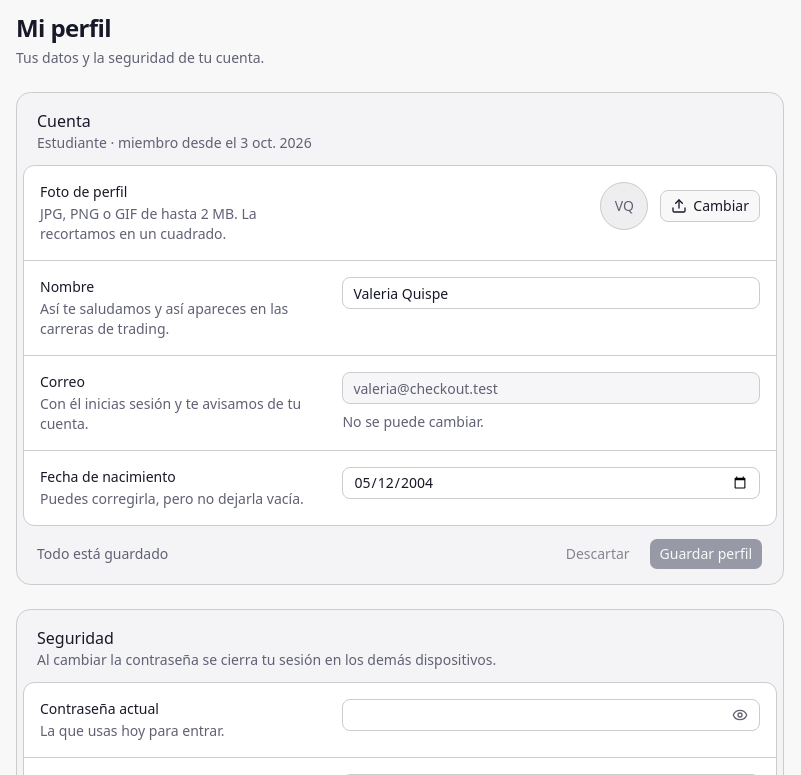
Test: ProfilePage › una fecha de nacimiento guardada no se puede dejar vacia
Step 1. Clear the date field labelled "Fecha de nacimiento" → (551, 483), box [342,467,760,499]
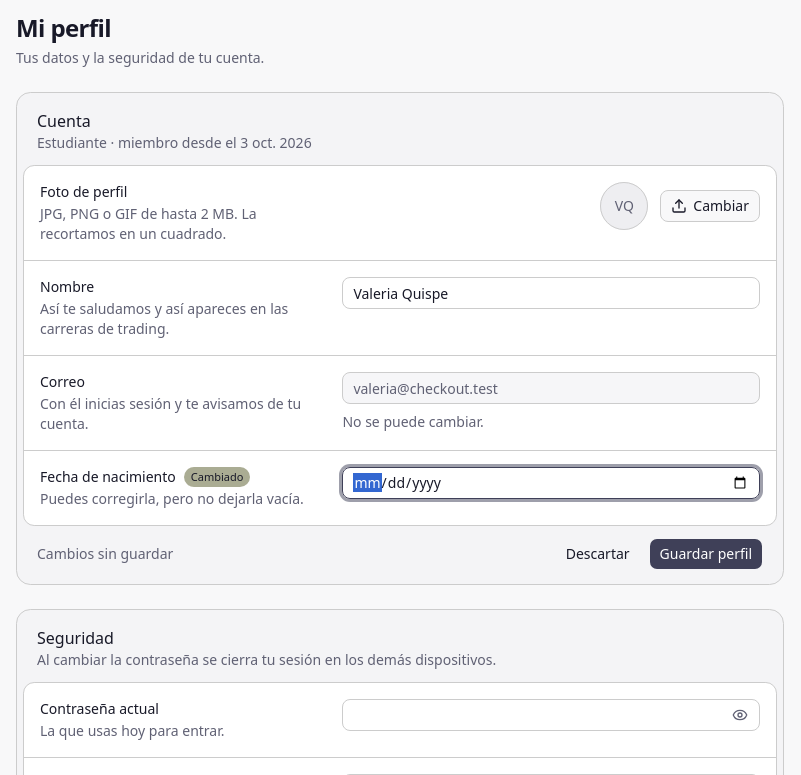
Step 2. Click the button "Guardar perfil" → (706, 554), box [649,538,763,570]
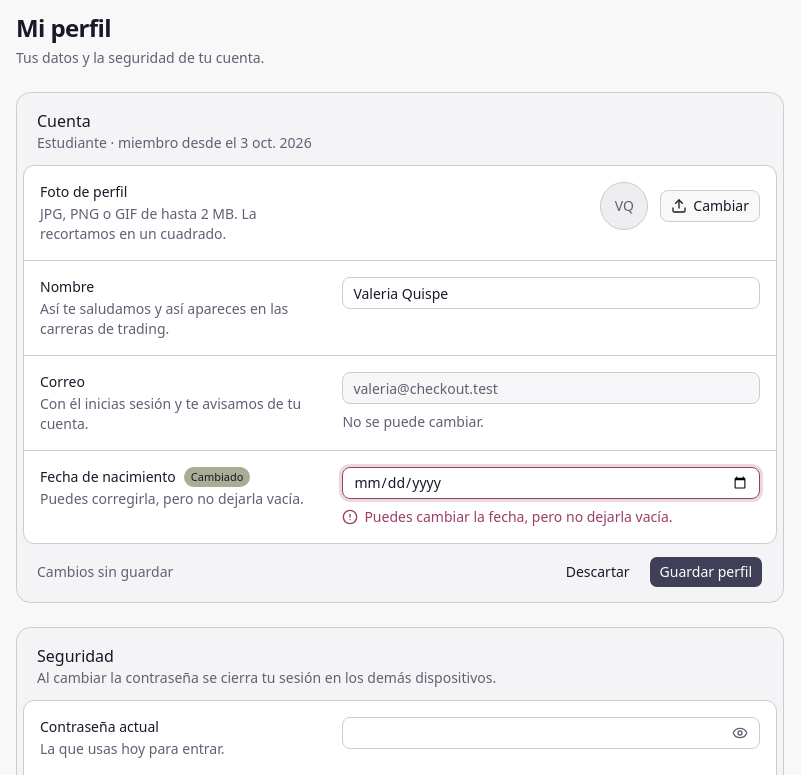
Expected: the text "Puedes cambiar la fecha, pero no dejarla vacía." is shown, [342,507,672,526]
